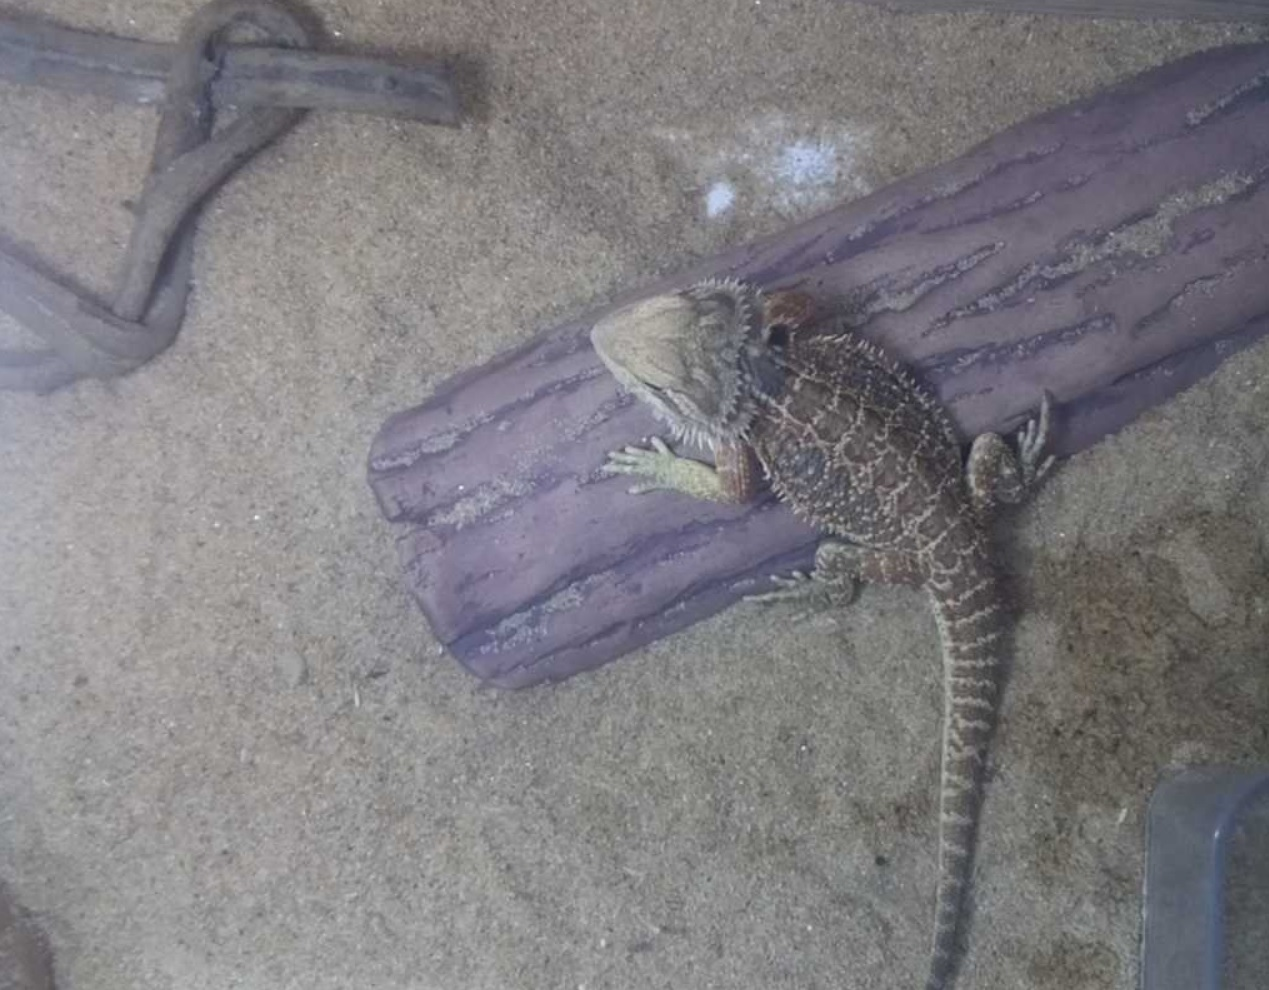bearded: (590, 272, 1076, 990)
